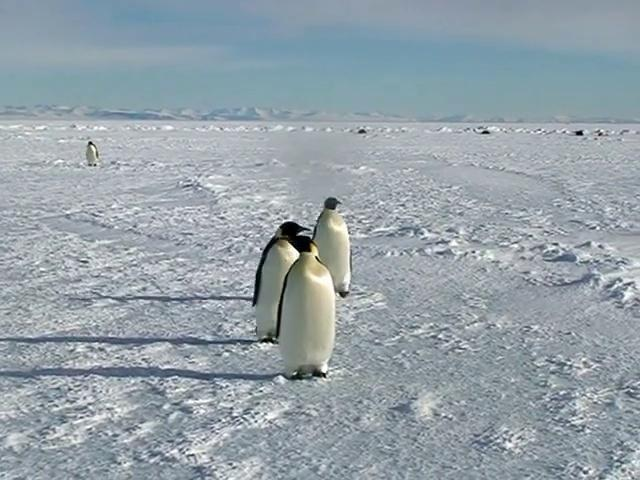animal: (314, 199, 352, 297)
